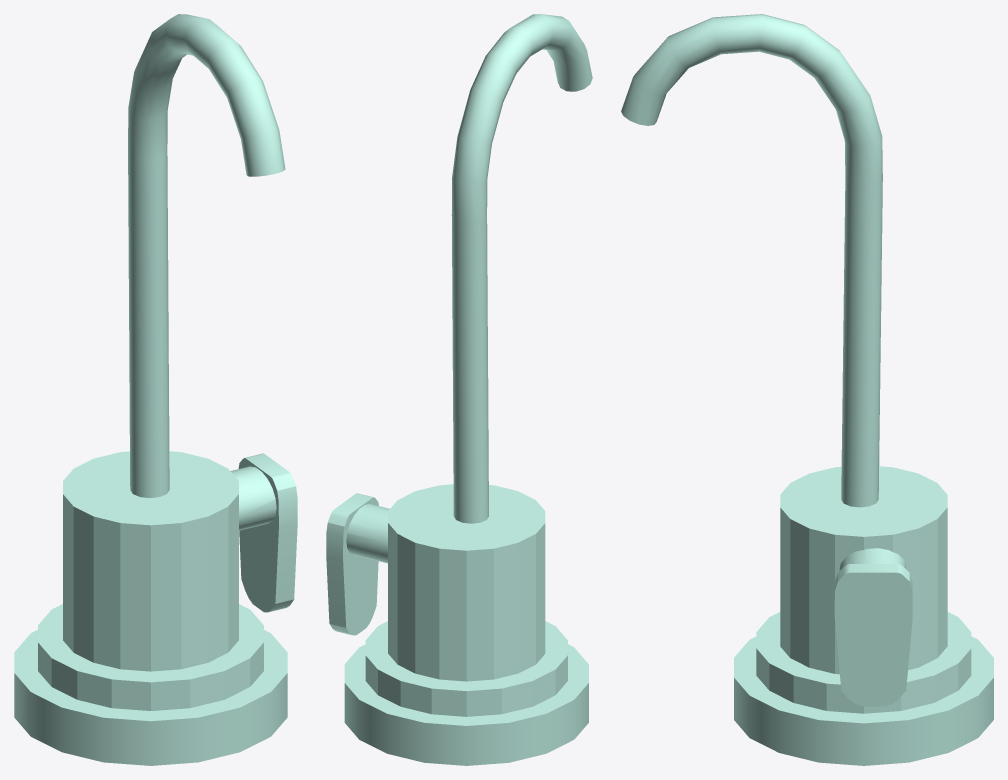
File: shuilongtou.fbx
The picture shows the model from 3 angles, left to right: view 1: azimuth 30°, elevation 25°; view 2: azimuth 150°, elevation 25°; view 3: azimuth 270°, elevation 25°; orthographic projection. The views are drawn at different scales.
Visible parts, largest first — view 1: Cylinder002, Line002; view 2: Cylinder002, Line002; view 3: Cylinder002, Line002.
Boxes of the visible parts, bbox=[...] form: Cylinder002: bbox=[14, 451, 297, 765]; Line002: bbox=[128, 14, 285, 497]; Cylinder002: bbox=[326, 484, 588, 765]; Line002: bbox=[451, 14, 592, 523]; Cylinder002: bbox=[734, 466, 993, 765]; Line002: bbox=[621, 14, 882, 507].
Size of the model in its own units: 2.01 by 5.56 by 2.71.
